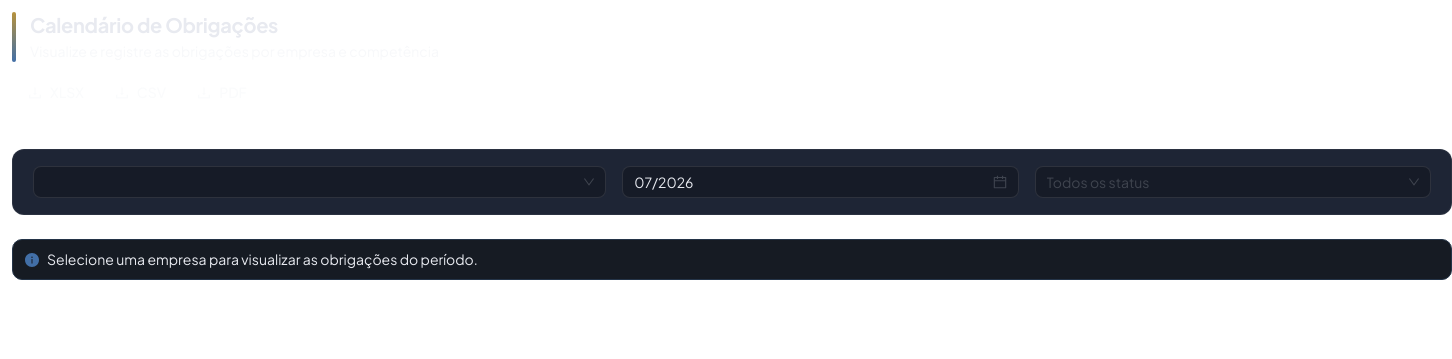
CalendarioPage › shows clear filter button when status filter is active
Step 1. Click the element showing "Todos os status" → (1233, 182), box [1035,166,1431,198]
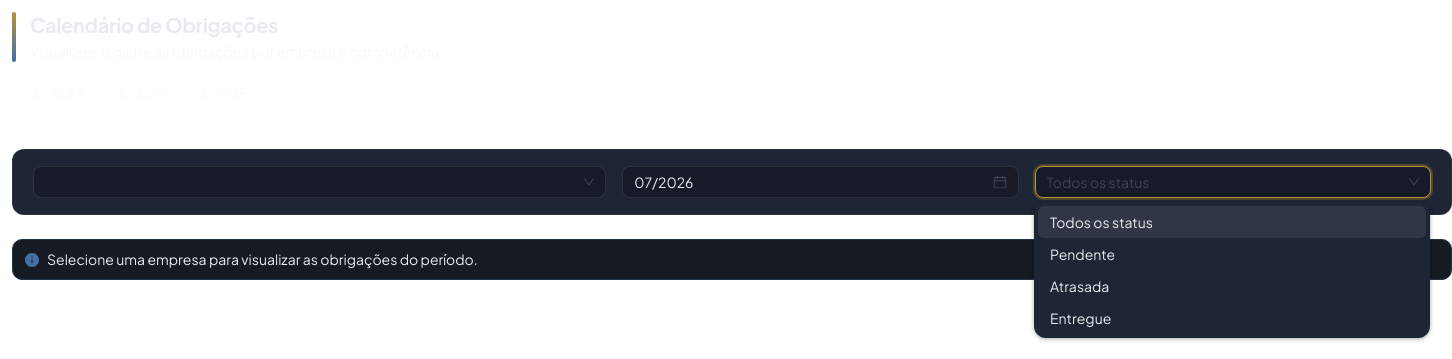
Step 2. Click the text "Pendente" → (1083, 254), box [1050,245,1115,263]
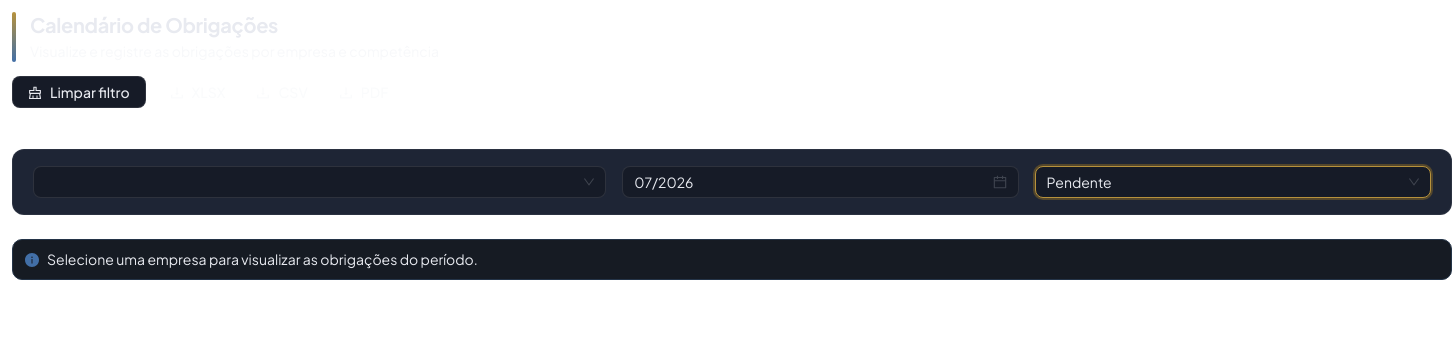
Expected: the text "Limpar filtro" is shown, [50,82,130,103]
